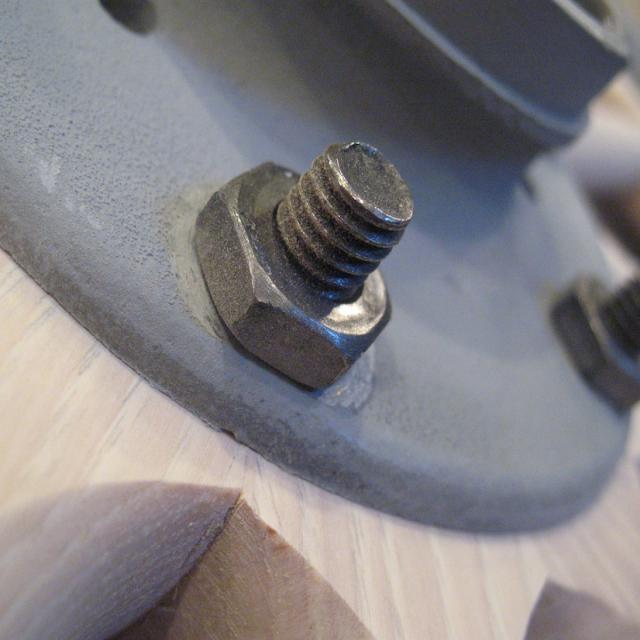bolt nut: (192, 153, 394, 395)
